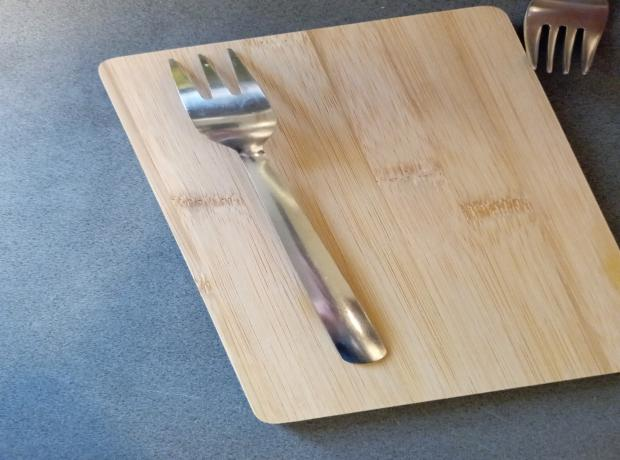metal: (170, 48, 388, 364), (518, 0, 620, 76)
